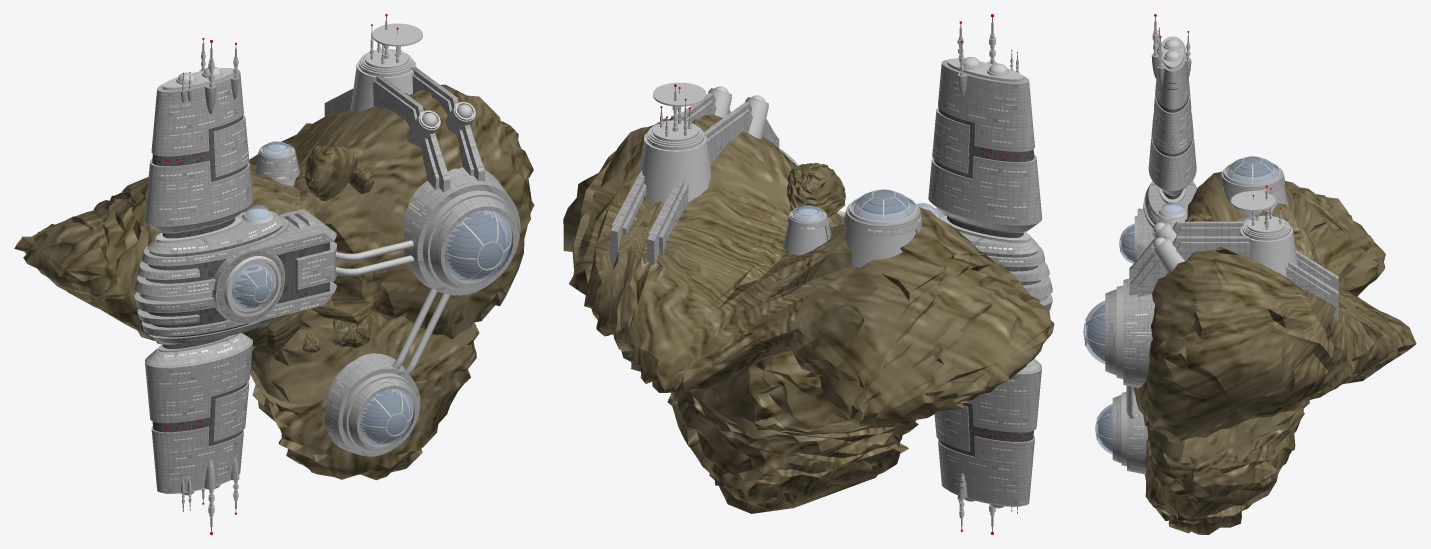
File: mining.glb
The picture shows the model from 3 angles, left to right: view 1: azimuth 30°, elevation 25°; view 2: azimuth 150°, elevation 25°; view 3: azimuth 270°, elevation 25°; orthographic projection. The views are drawn at different scales.
Parts seen in each view (by area): view 1: mining_raw; view 2: mining_raw; view 3: mining_raw.
Part boxes in pixels (box(x1,y1,x2,y2)): mining_raw: box(14, 14, 534, 534); mining_raw: box(563, 14, 1054, 534); mining_raw: box(1083, 14, 1416, 534).
Bounding box in the file's own units: 1051 × 1101 × 764.
Materials: 17 (10 with a texture image).
